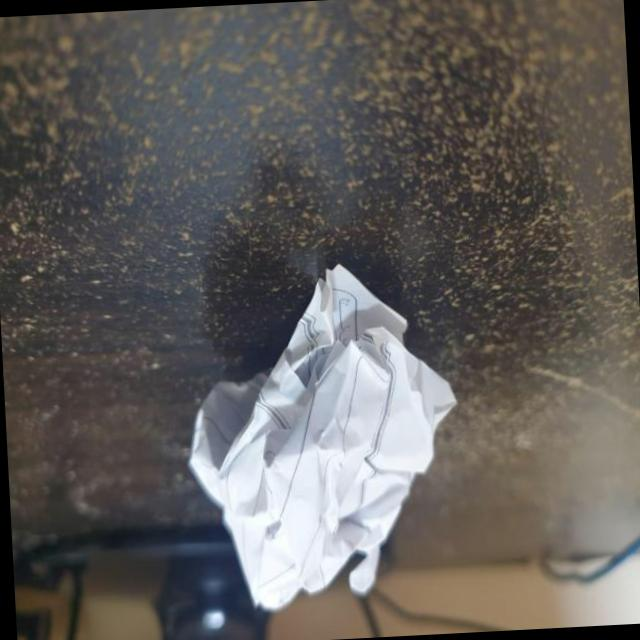cardboard paper: (188, 267, 453, 610)
